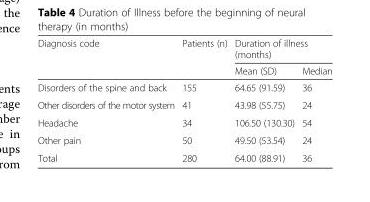table: (36, 37, 331, 163)
table column: (36, 37, 177, 163), (230, 37, 297, 163), (177, 37, 230, 163), (297, 37, 331, 163)
table column header: (36, 37, 331, 78)
table row: (36, 37, 331, 62), (36, 95, 331, 113), (36, 113, 331, 131), (36, 78, 331, 95), (36, 131, 331, 148), (36, 62, 331, 78), (36, 148, 331, 163)
table spanning cell: (36, 37, 177, 78), (230, 37, 331, 62), (177, 37, 230, 78)
